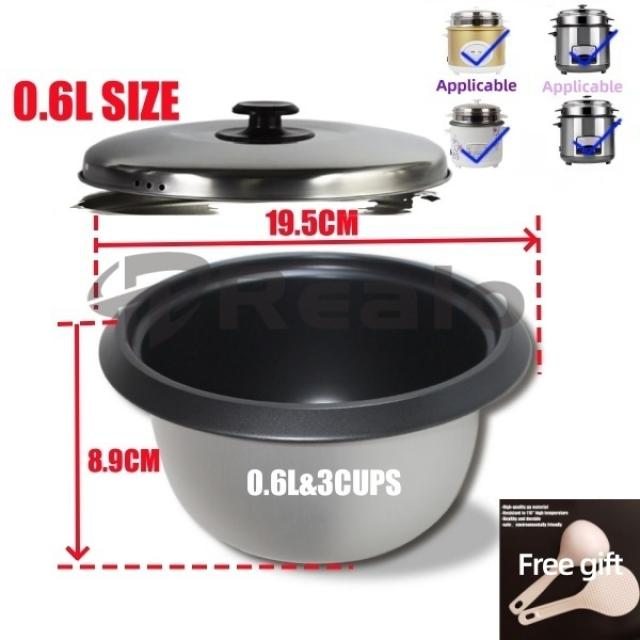appliances: (100, 254, 529, 561), (80, 100, 449, 212), (555, 96, 619, 162), (551, 4, 610, 71), (446, 100, 503, 165), (446, 9, 503, 71)
